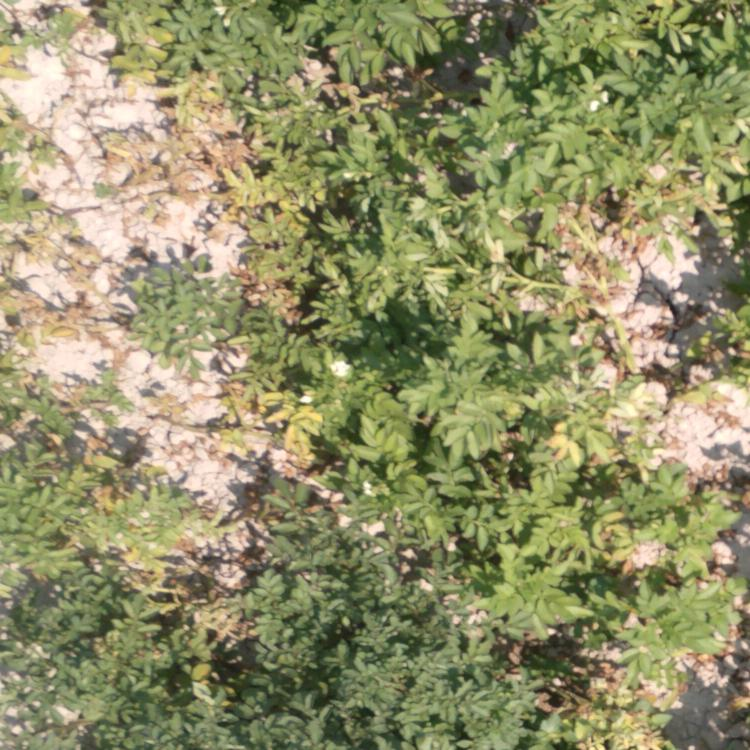healthy: (345, 181, 570, 400), (503, 1, 744, 181), (417, 600, 660, 750), (7, 591, 234, 750), (251, 515, 402, 750), (305, 1, 504, 171), (418, 419, 581, 582)
stressed: (1, 370, 171, 585), (109, 258, 330, 381), (154, 1, 300, 158), (595, 442, 746, 580), (234, 396, 406, 492), (1, 103, 61, 350), (1, 2, 142, 72), (579, 180, 693, 264), (199, 162, 322, 239), (664, 590, 737, 667), (189, 481, 242, 577), (696, 290, 750, 381)
